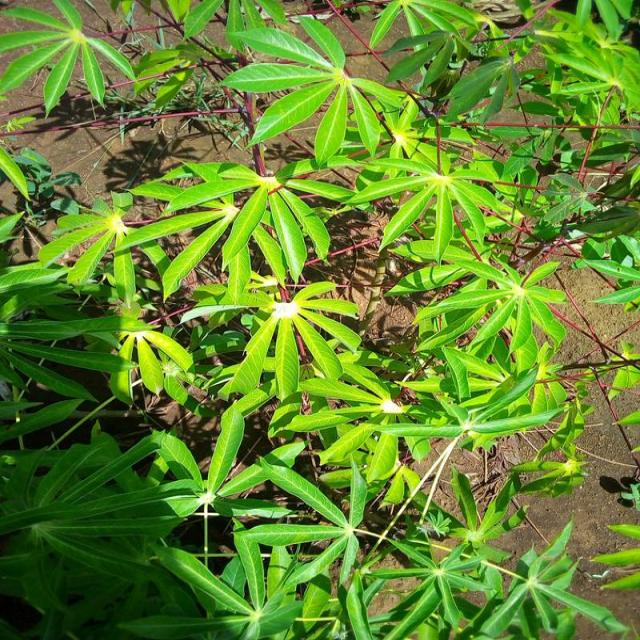cassava leaf: (1, 1, 638, 638), (220, 13, 410, 167)
